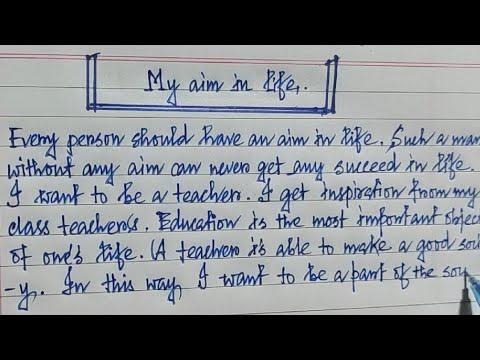text: (3, 260, 469, 315), (9, 229, 480, 275), (8, 122, 480, 162), (5, 178, 480, 216), (6, 203, 480, 240), (5, 150, 475, 187), (143, 65, 308, 109)
